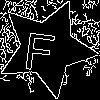F: (21, 23, 58, 72)
